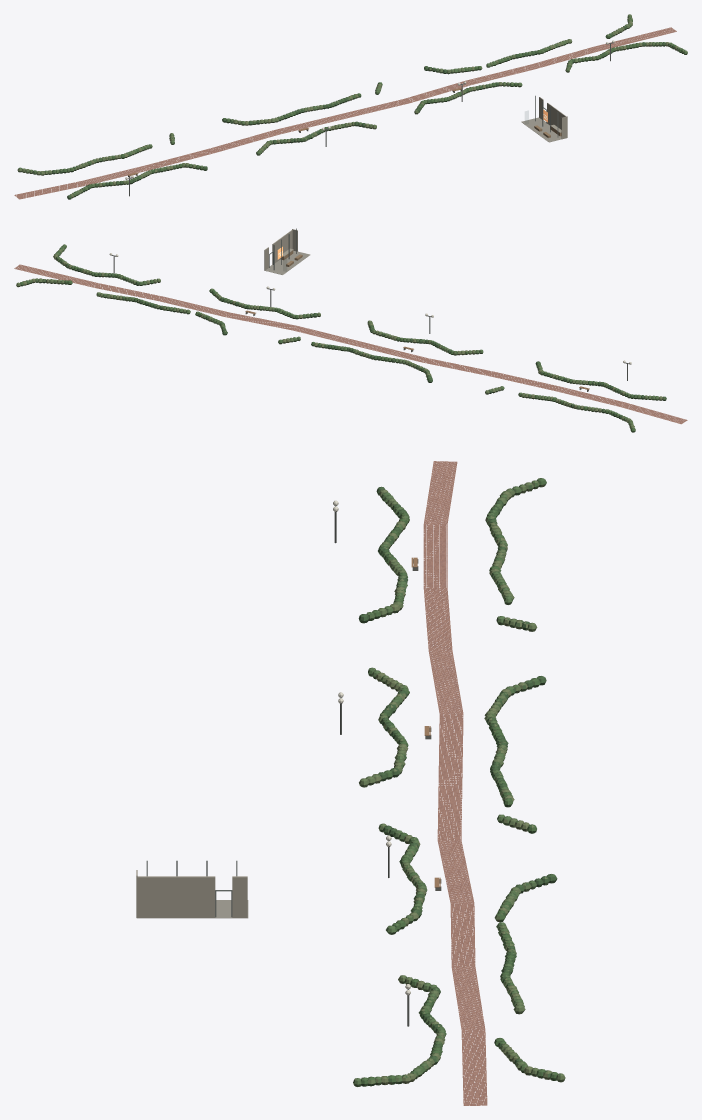
The model's file is 20261103-rear-garden-detail.glb.
3 views of the same model, one above another, from view 1: azimuth 30°, elevation 25°; view 2: azimuth 150°, elevation 25°; view 3: azimuth 270°, elevation 25° (orthographic). The views are drawn at different scales.
Visible parts, largest first — view 1: Garden - pathside hedge, Rear garden - brick paving, DAY pavilion interior floor; view 2: Garden - pathside hedge, Rear garden - brick paving, DAY pavilion interior floor, DAY pavilion interior back wall; view 3: Rear garden - brick paving, Garden - pathside hedge, DAY pavilion interior back wall.
Part boxes in pixels (x1=…): Garden - pathside hedge: x1=17, y1=14, x2=687, y2=199; Rear garden - brick paving: x1=14, y1=27, x2=676, y2=199; DAY pavilion interior floor: x1=521, y1=117, x2=562, y2=142; Garden - pathside hedge: x1=16, y1=244, x2=666, y2=432; Rear garden - brick paving: x1=14, y1=264, x2=687, y2=424; DAY pavilion interior floor: x1=265, y1=250, x2=310, y2=274; DAY pavilion interior back wall: x1=272, y1=230, x2=292, y2=264; Rear garden - brick paving: x1=423, y1=461, x2=487, y2=1105; Garden - pathside hedge: x1=353, y1=478, x2=565, y2=1086; DAY pavilion interior back wall: x1=137, y1=876, x2=215, y2=917.
Size of the model in its own units: 153 by 5.8 by 43.06.
